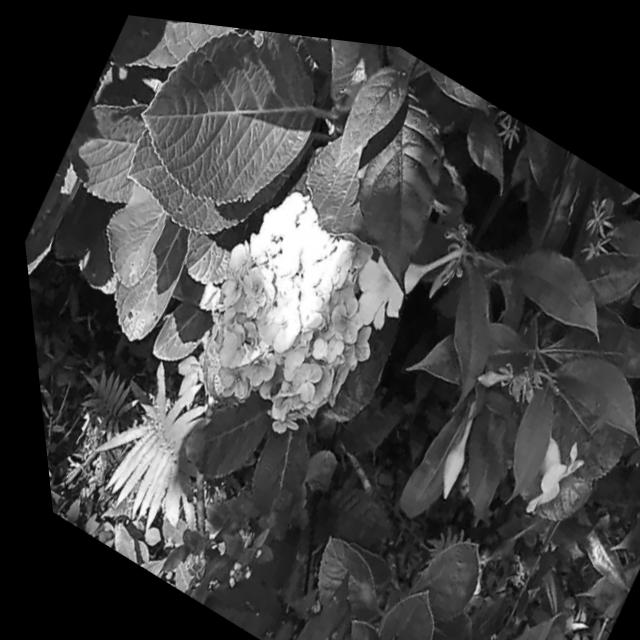Flower: (154, 156, 416, 458)
